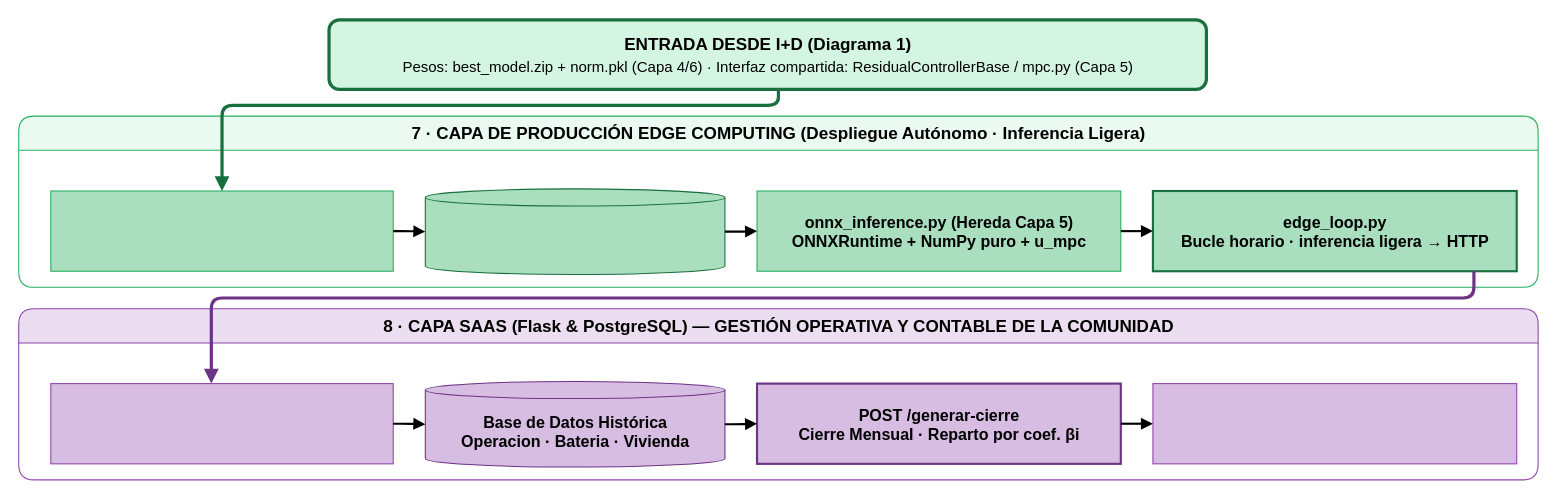
The diagram is 1557 pixels wide and 499 high, and some of its shapes have lost their labels. The centre of each missing label's shape, as x and y in pixels:
"export_onnx.py (MLOps) Fusión pesos + normalización (Sin PyTorch)" goes at point (221, 230).
"modelo_despliegue.onnx Artefacto autónomo ultra-ligero" goes at point (574, 231).
"Paneles Web por Rol Admin · Gestor · Vivienda" goes at point (1334, 423).
"POST /api/edge/decision Recepción horaria · Actualiza SoC" goes at point (221, 423).
